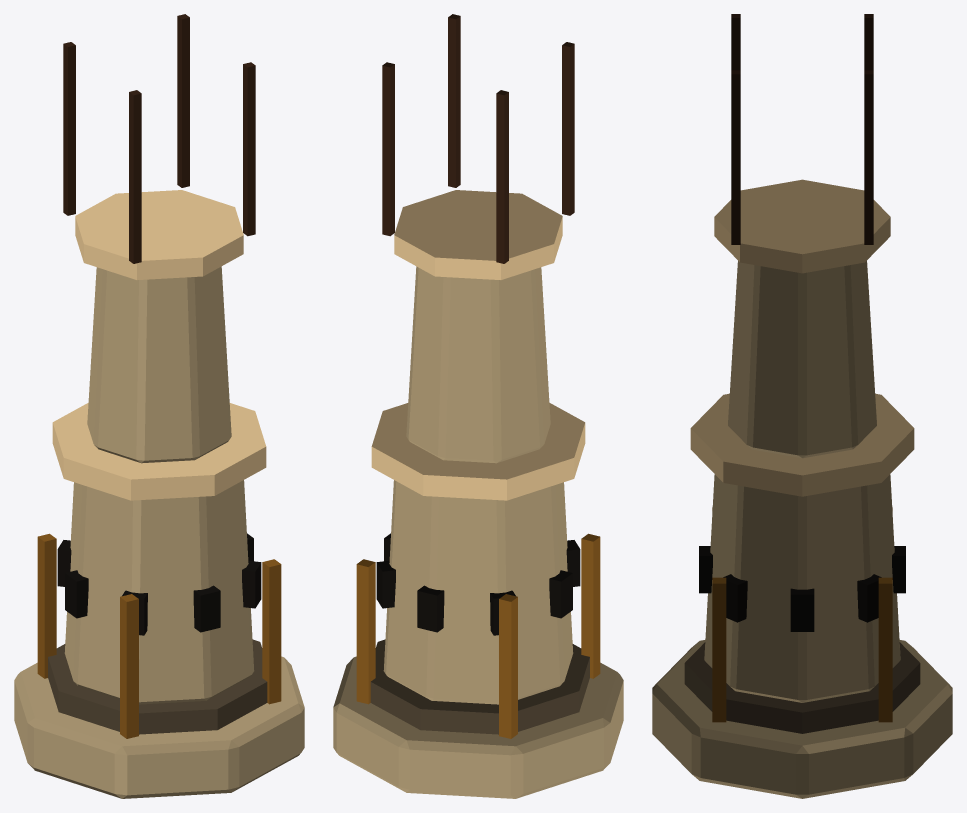
File: great_work_3.obj
3 views of the same model, side by side, from view 1: azimuth 30°, elevation 25°; view 2: azimuth 150°, elevation 25°; view 3: azimuth 270°, elevation 25° (orthographic).
Parts seen in each view (by area): view 1: core_stone, core_white, core_wood, core_gold, core_stone_dark, core_window; view 2: core_stone, core_white, core_wood, core_gold, core_stone_dark, core_window; view 3: core_stone, core_white, core_stone_dark, core_wood, core_gold, core_window.
Boxes of the visible parts, left/top/right/bottom form: core_stone: left=14, top=266, right=304, bottom=798; core_white: left=52, top=190, right=266, bottom=500; core_wood: left=63, top=14, right=255, bottom=263; core_gold: left=37, top=533, right=281, bottom=738; core_stone_dark: left=48, top=639, right=267, bottom=734; core_window: left=57, top=533, right=261, bottom=635; core_stone: left=333, top=266, right=623, bottom=798; core_white: left=371, top=190, right=585, bottom=500; core_wood: left=382, top=14, right=574, bottom=263; core_gold: left=356, top=533, right=600, bottom=738; core_stone_dark: left=370, top=639, right=589, bottom=734; core_window: left=376, top=533, right=580, bottom=635; core_stone: left=652, top=261, right=952, bottom=798; core_white: left=690, top=179, right=914, bottom=496; core_stone_dark: left=684, top=642, right=920, bottom=733; core_wood: left=731, top=14, right=873, bottom=244; core_gold: left=712, top=507, right=892, bottom=722; core_window: left=699, top=546, right=905, bottom=631.
Size of the model in its own units: 0.2554 by 0.65 by 0.2554.
